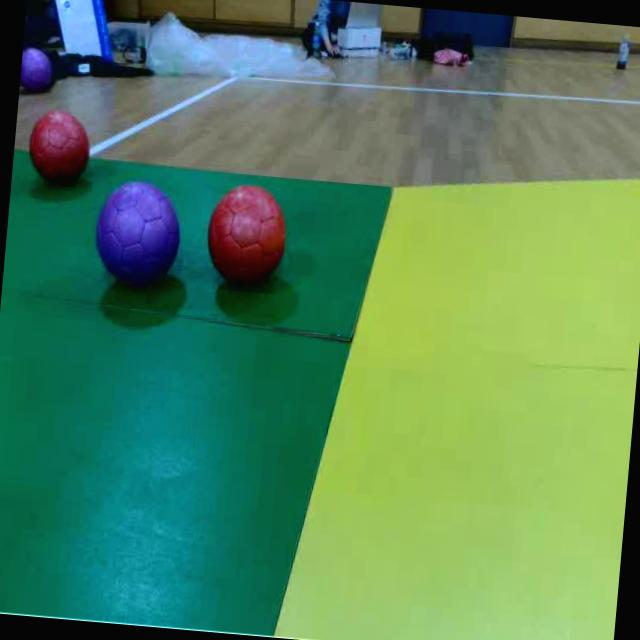purple_ball: (92, 176, 184, 284), (19, 46, 54, 91)
red_ball: (204, 180, 290, 286), (25, 107, 91, 185)
